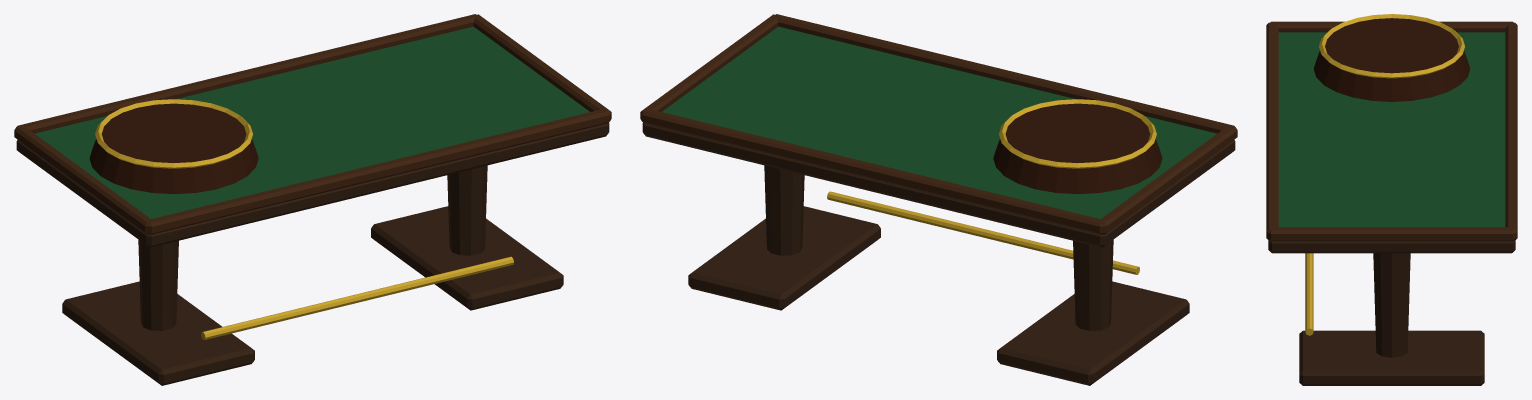
File: roulette_table.glb
3 renders of one model, left to right at view 1: azimuth 30°, elevation 25°; view 2: azimuth 150°, elevation 25°; view 3: azimuth 270°, elevation 25°, orthographic. The views are drawn at different scales.
Visible parts, largest first — view 1: roulette_table; view 2: roulette_table; view 3: roulette_table.
Part boxes in pixels (bbox=[...]): roulette_table: bbox=[14, 14, 611, 385]; roulette_table: bbox=[640, 14, 1237, 385]; roulette_table: bbox=[1266, 14, 1517, 385].
Bounding box in the file's own units: 2.42 × 1.01 × 1.22.
